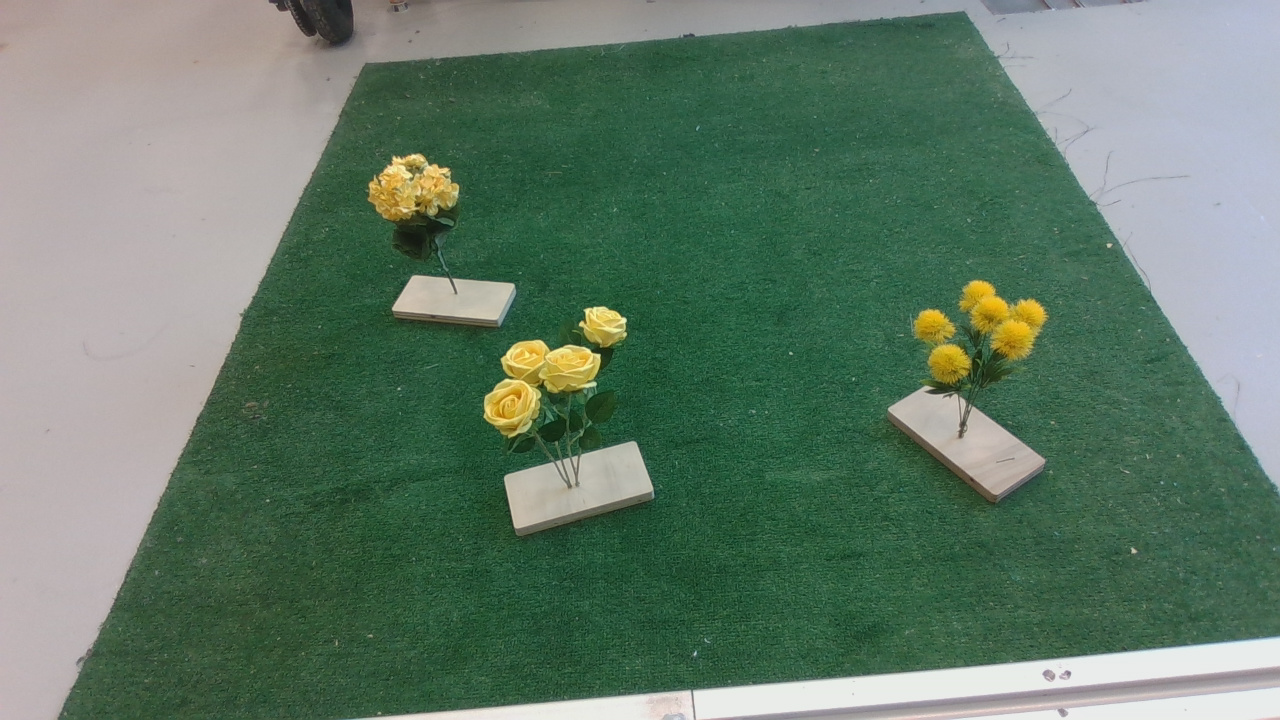dandelion: (906, 282, 1059, 412)
geranium: (367, 148, 469, 266)
rose: (480, 301, 642, 463)
